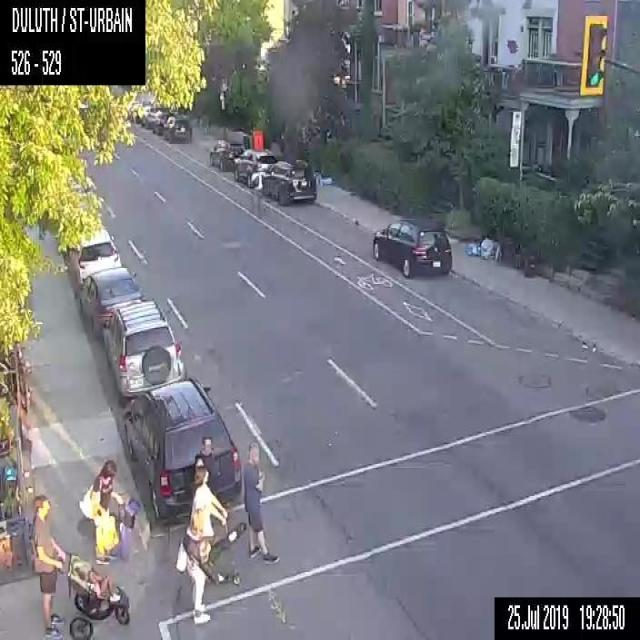construction: (252, 126, 264, 146)
pedestrian: (26, 491, 128, 638), (177, 507, 238, 629), (79, 458, 138, 560), (239, 437, 280, 560), (196, 434, 229, 545), (191, 464, 224, 574)
vehicle: (122, 378, 242, 524), (102, 300, 186, 392), (369, 216, 452, 277), (79, 266, 142, 337), (65, 226, 121, 283), (262, 160, 316, 205), (233, 148, 277, 187), (209, 138, 246, 168), (164, 114, 192, 142), (153, 108, 175, 130)
